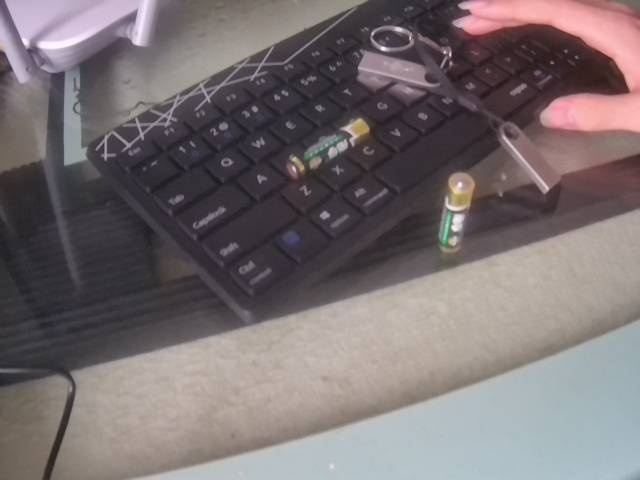U-disk: (356, 28, 455, 100), (489, 115, 564, 196)
battery: (282, 115, 377, 178), (435, 166, 477, 262)
